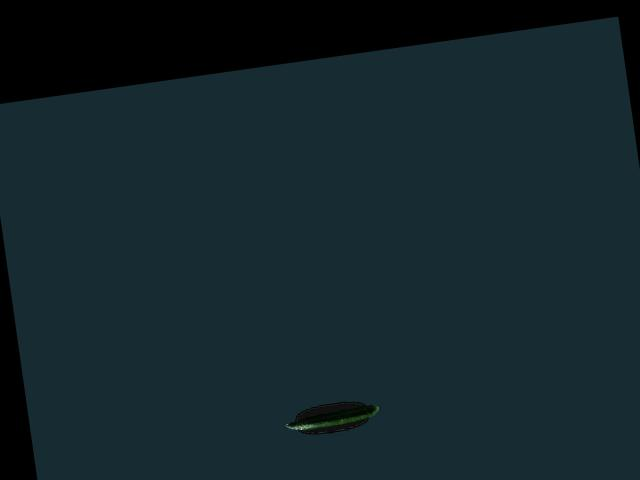cucumber: (283, 403, 380, 432)
